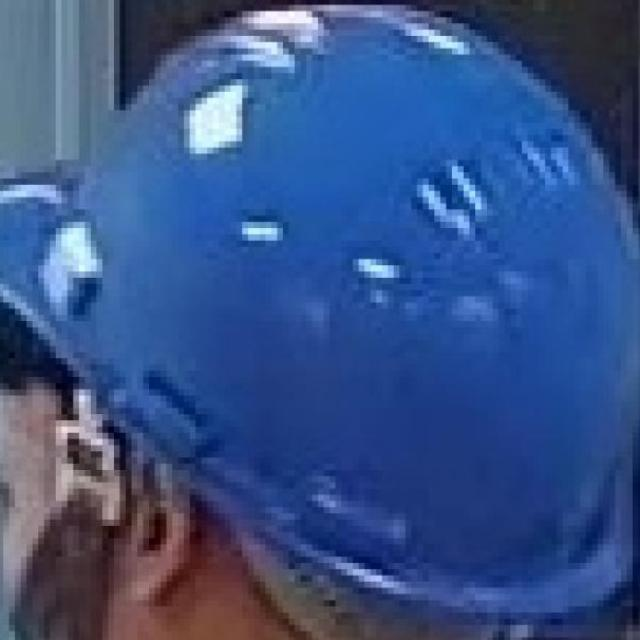helmet: (0, 0, 634, 625)
